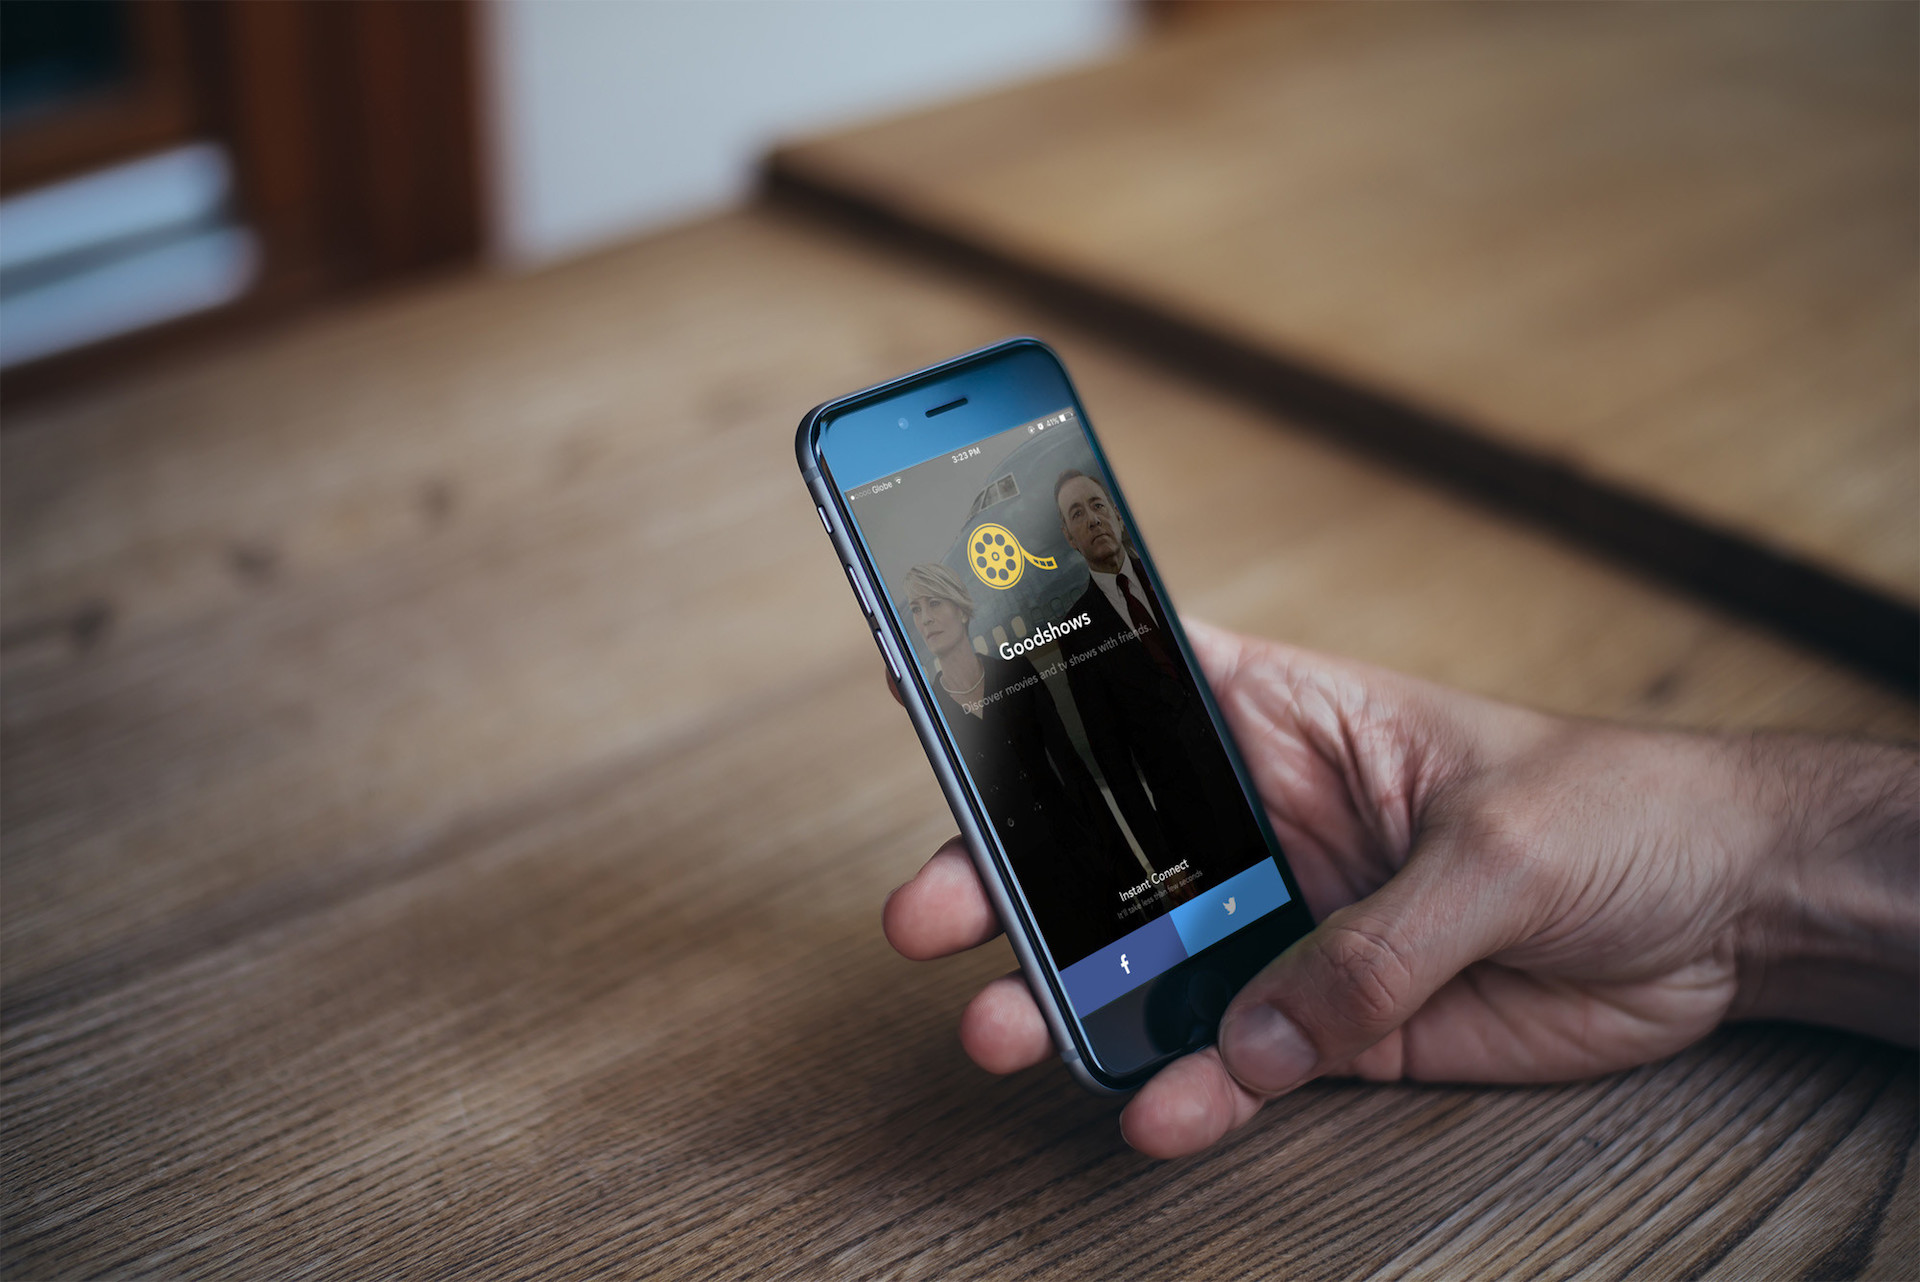smartphone: (795, 335, 1322, 1097)
